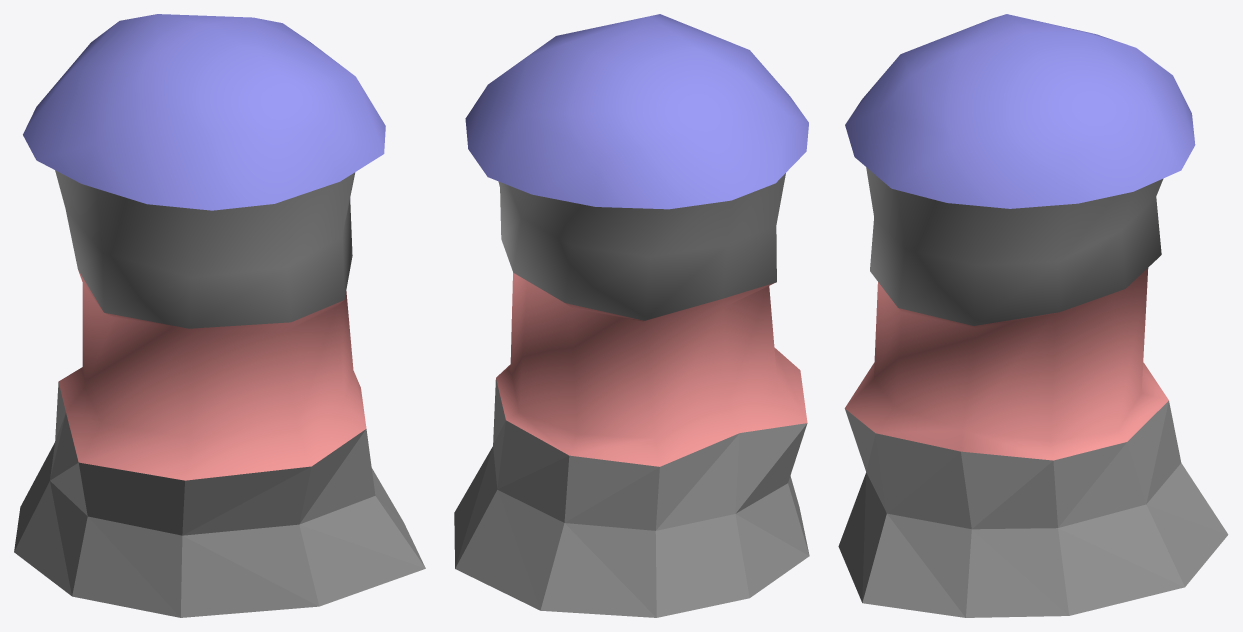
The model's file is PriMT_Boss_Obj01.gltf.
3 renders of one model, left to right at view 1: azimuth 30°, elevation 25°; view 2: azimuth 150°, elevation 25°; view 3: azimuth 270°, elevation 25°, orthographic. The views are drawn at different scales.
Visible parts, largest first — view 1: PriMT_Boss_Obj01; view 2: PriMT_Boss_Obj01; view 3: PriMT_Boss_Obj01.
Boxes of the visible parts, x1,y1,x2,y2 form: PriMT_Boss_Obj01: (14,14,425,617); PriMT_Boss_Obj01: (454,14,809,617); PriMT_Boss_Obj01: (838,14,1228,617).
Bounding box in the file's own units: 2.77 × 4.2 × 2.94.
